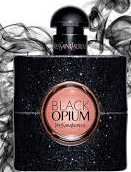ysl_black_opium: (13, 4, 127, 171)
